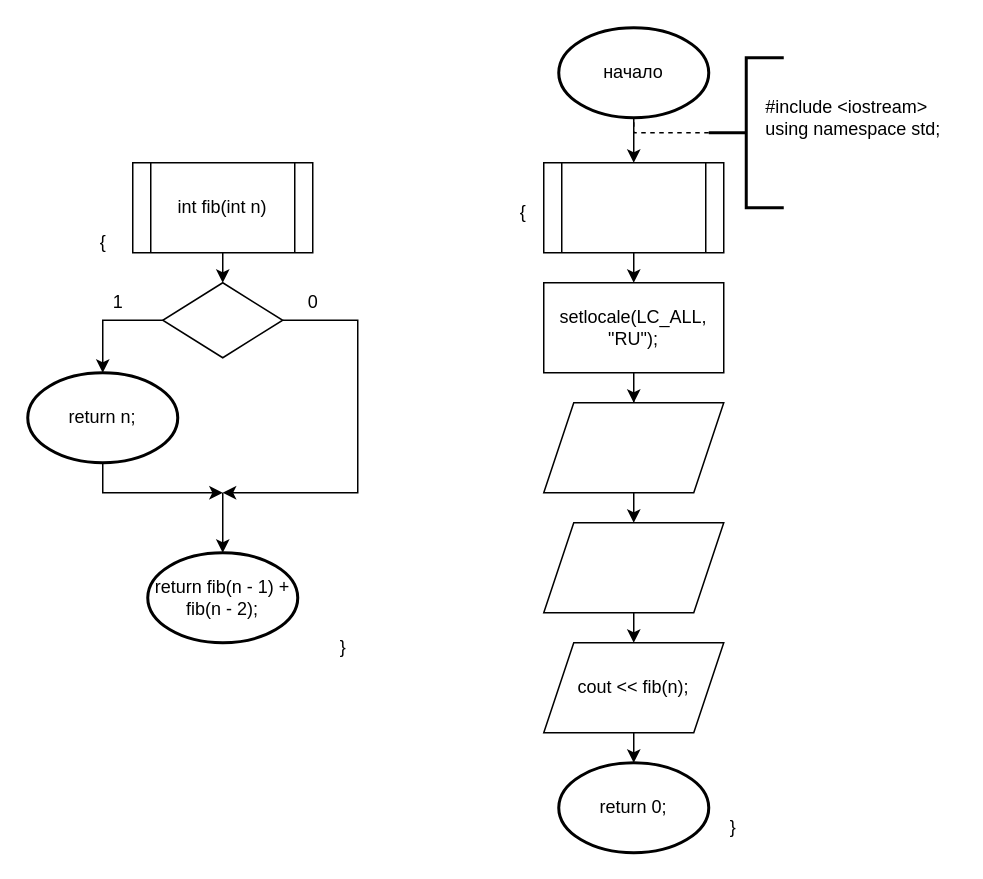
The diagram is 983 pixels wide and 879 high, and some of its shapes have lost their labels. Here are the shapes that lost their labels. From the top down, the box of each, then its label:
(542, 161, 724, 253): int main()
(161, 281, 283, 358): if (n <= 1)
(542, 401, 724, 493): cout << "Введите желаемое число фибоначи: " << endl;
(542, 521, 724, 613): cin >> n;
